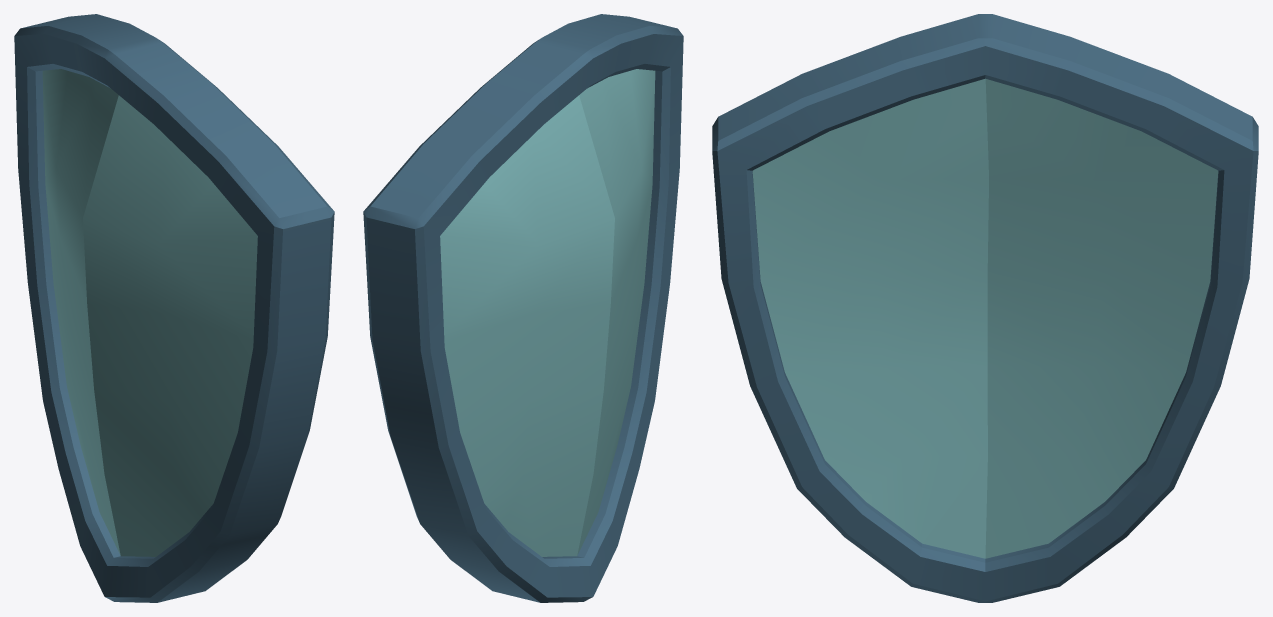
The model's file is Shield.FBX.
The picture shows the model from 3 angles, left to right: view 1: azimuth 30°, elevation 25°; view 2: azimuth 150°, elevation 25°; view 3: azimuth 270°, elevation 25°; orthographic projection. The views are drawn at different scales.
Visible parts, largest first — view 1: Escudo; view 2: Escudo; view 3: Escudo.
Boxes of the visible parts, x1,y1,x2,y2 form: Escudo: (14, 14, 334, 602); Escudo: (363, 14, 683, 602); Escudo: (712, 14, 1258, 602).
Size of the model in its own units: 14 by 60.2 by 52.8.
